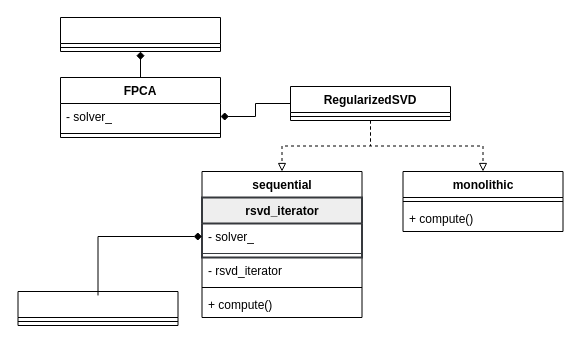
Some shapes in this 580 by 345 pixel diagram are drawn without their labels. The centre of each missing label's shape, as x and y in pixels:
FunctionalBase: pixel 140 34
PowerIteration: pixel 97 308
